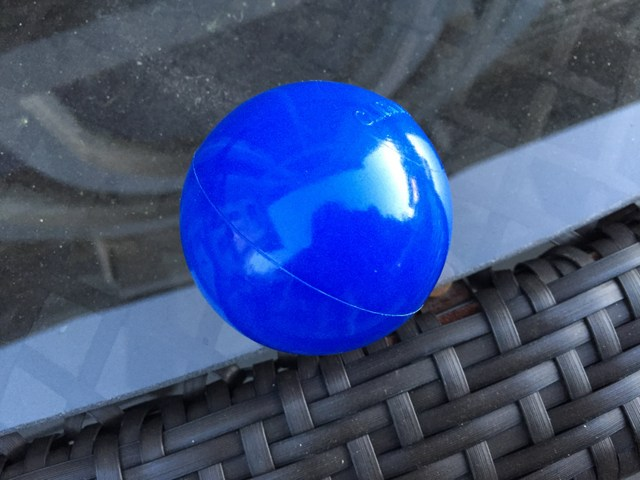ball: (177, 79, 455, 356)
